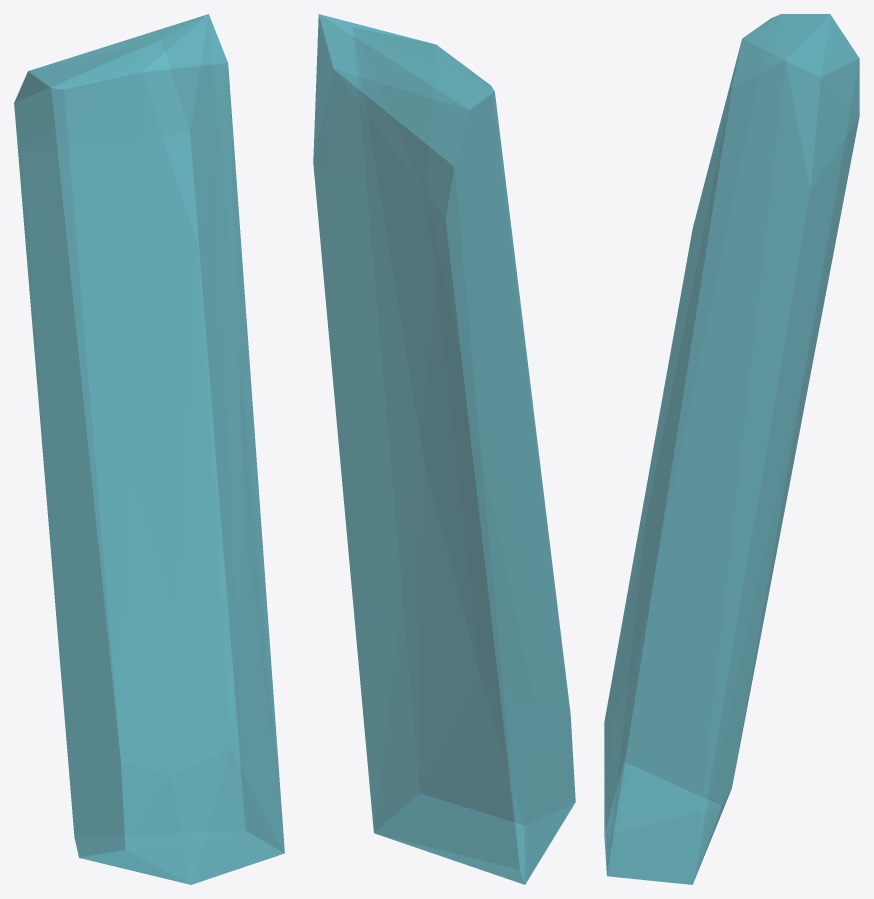
3 views of the same model, side by side, from view 1: azimuth 30°, elevation 25°; view 2: azimuth 150°, elevation 25°; view 3: azimuth 270°, elevation 25° (orthographic). The views are drawn at different scales.
Visible parts, largest first — view 1: Shape_IndexedFaceSet.031_Shape_IndexedFaceSet.1996; view 2: Shape_IndexedFaceSet.031_Shape_IndexedFaceSet.1996; view 3: Shape_IndexedFaceSet.031_Shape_IndexedFaceSet.1996.
Boxes of the visible parts, x1,y1,x2,y2 form: Shape_IndexedFaceSet.031_Shape_IndexedFaceSet.1996: (14, 14, 284, 884); Shape_IndexedFaceSet.031_Shape_IndexedFaceSet.1996: (313, 14, 575, 884); Shape_IndexedFaceSet.031_Shape_IndexedFaceSet.1996: (604, 14, 859, 884).
Bounding box in the file's own units: 0.1056 × 0.4946 × 0.1383.
